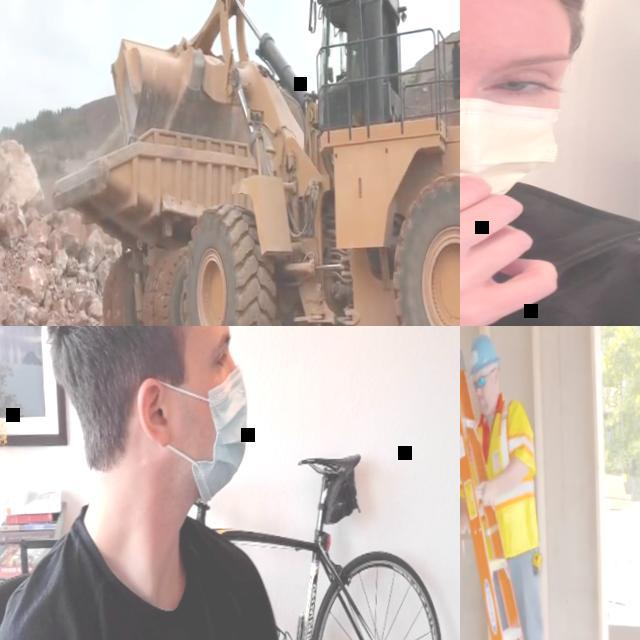Helmet: (472, 340, 518, 378)
Robbery: (17, 320, 316, 640), (461, 0, 640, 318), (458, 335, 559, 640)
